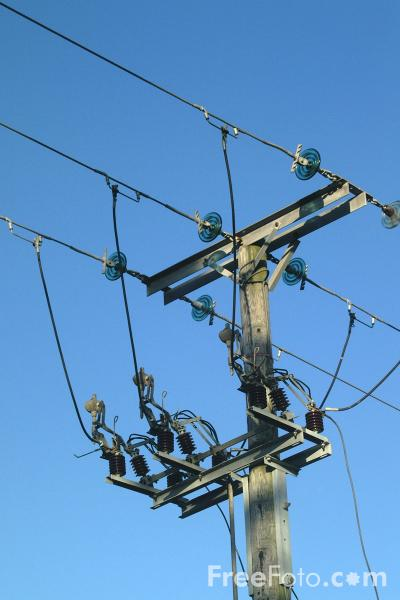isolator: (294, 148, 321, 181), (198, 211, 224, 243), (189, 294, 215, 323), (281, 256, 306, 285), (104, 251, 127, 282), (381, 200, 400, 230)
